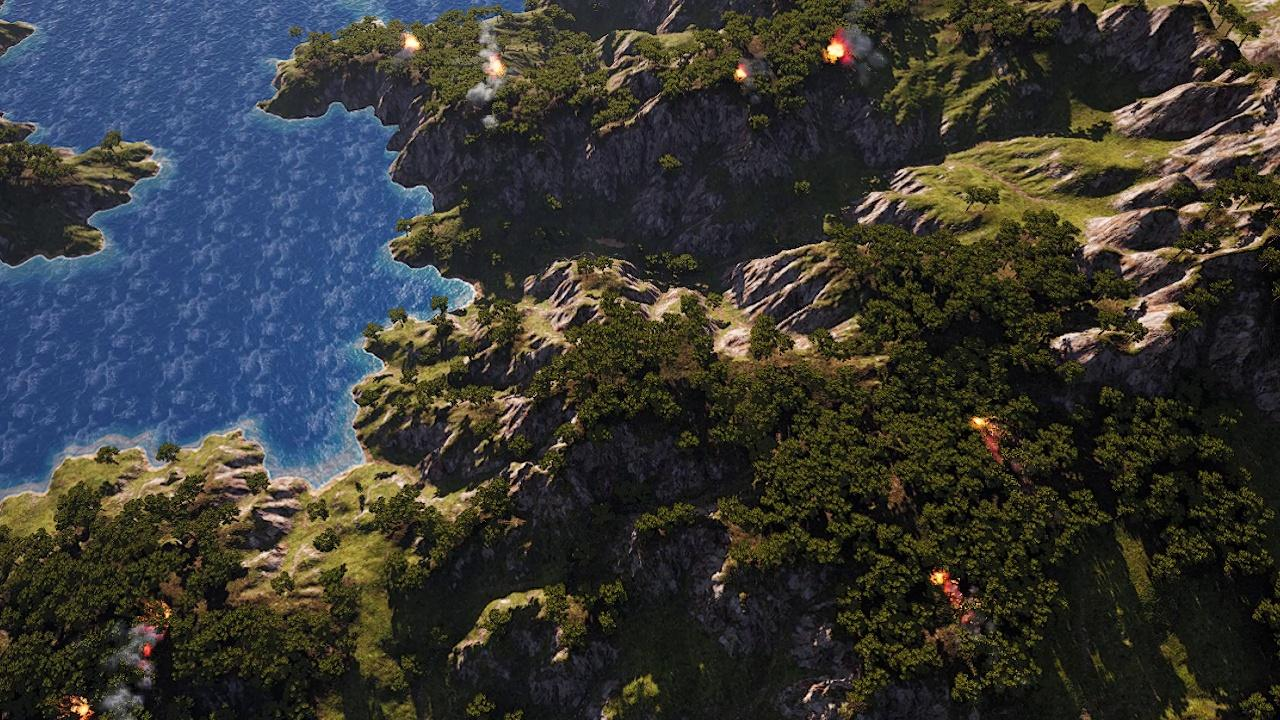fire: (972, 414, 1005, 459), (931, 568, 970, 604), (826, 39, 850, 61), (69, 699, 91, 719), (156, 599, 173, 619), (490, 59, 505, 77), (405, 35, 421, 51), (733, 67, 745, 81), (142, 643, 156, 655)
smoke: (94, 621, 163, 718), (461, 17, 506, 132), (839, 22, 887, 83), (741, 50, 773, 100)
